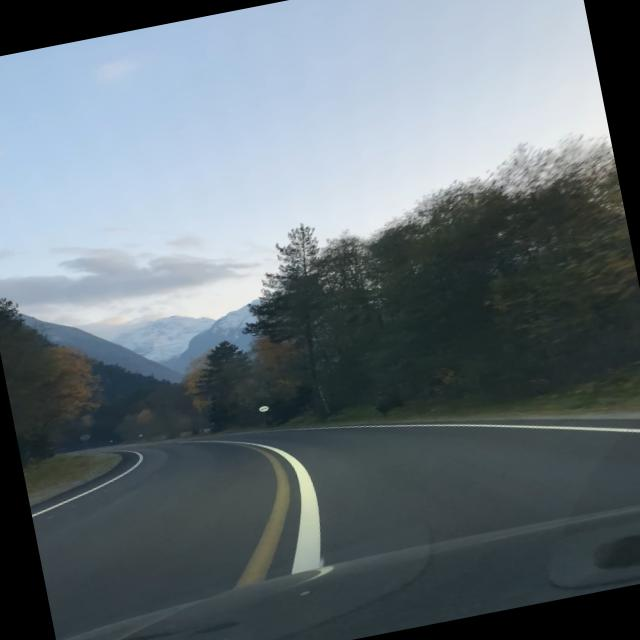asphalt: (30, 419, 640, 640)
